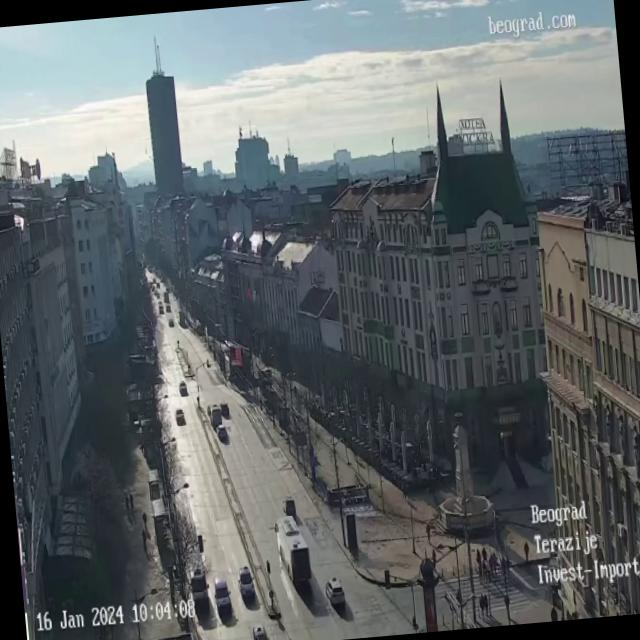bus: (272, 512, 312, 590)
car: (212, 574, 232, 614), (236, 565, 255, 598), (324, 576, 344, 606), (249, 623, 268, 640), (208, 408, 222, 425), (174, 408, 184, 426), (216, 424, 225, 441), (178, 383, 186, 397), (222, 400, 228, 416)
